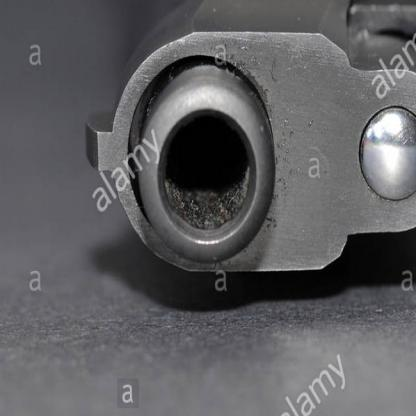gun: (71, 0, 415, 328)
